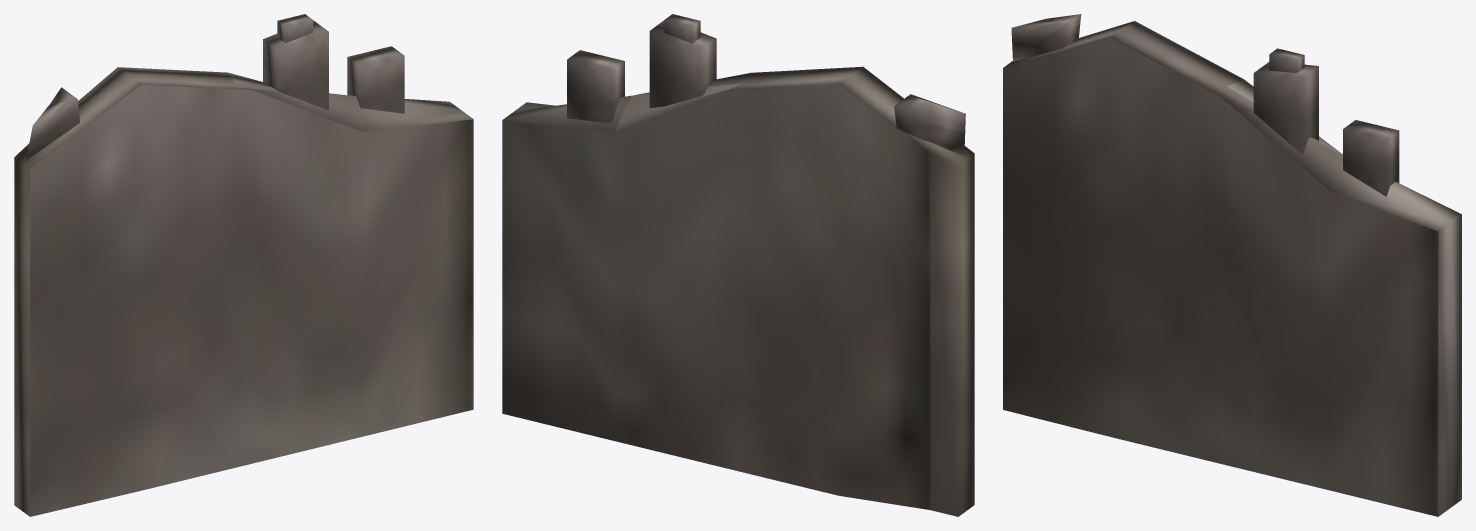
File: ruin3.glb
3 views of the same model, side by side, from view 1: azimuth 30°, elevation 25°; view 2: azimuth 150°, elevation 25°; view 3: azimuth 330°, elevation 25° (orthographic). The views are drawn at different scales.
Parts seen in each view (by area): view 1: ruin3; view 2: ruin3; view 3: ruin3.
Part boxes in pixels (x1,y1,x2,y2): ruin3: (14,14,473,516); ruin3: (502,14,974,516); ruin3: (1003,14,1461,516).
Bounding box in the file's own units: 8 × 7.26 × 0.7812.
1 material, 1 textured.
